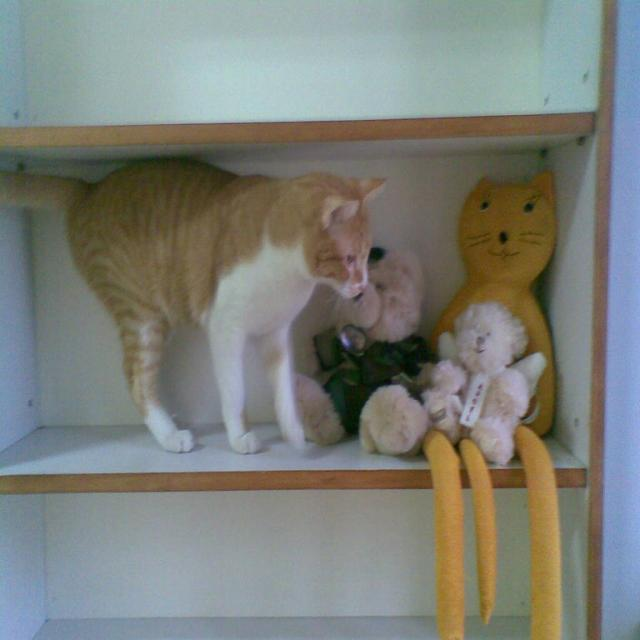Cat: (0, 158, 389, 450)
